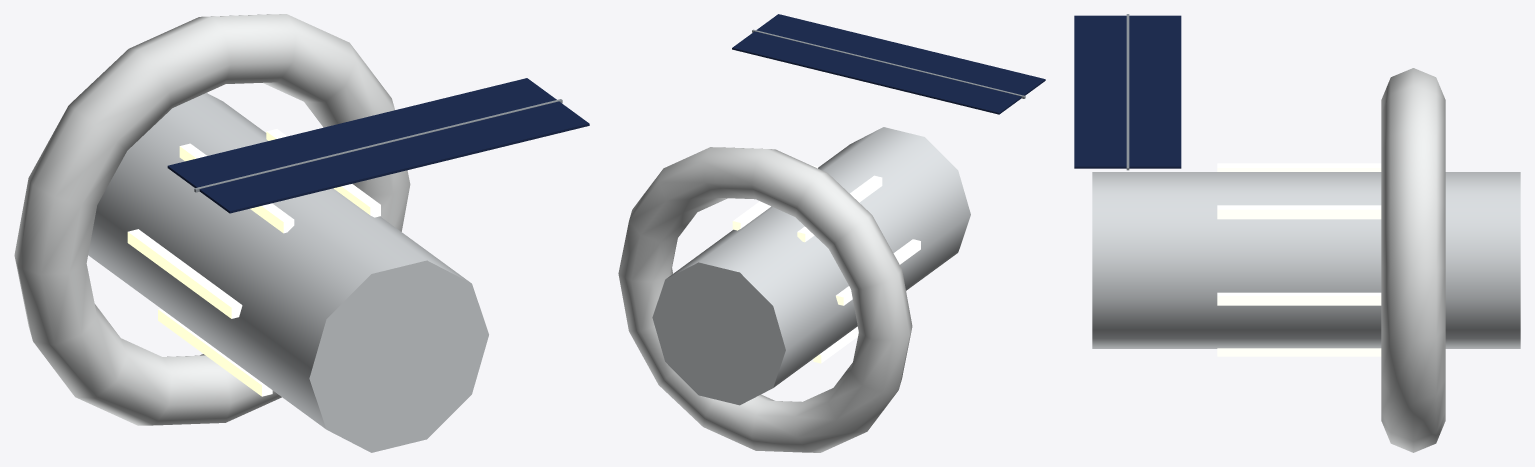
Rendered from space_orbital_habitat_t1.glb.
3 renders of one model, left to right at view 1: azimuth 30°, elevation 25°; view 2: azimuth 150°, elevation 25°; view 3: azimuth 270°, elevation 25°, orthographic. The views are drawn at different scales.
Visible parts, largest first — view 1: body, solar_0; view 2: body, solar_0; view 3: body, solar_0.
Part boxes in pixels (x1=…): body: x1=14, y1=14, x2=488, y2=452; solar_0: x1=167, y1=78, x2=589, y2=213; body: x1=618, y1=127, x2=970, y2=452; solar_0: x1=732, y1=14, x2=1045, y2=114; body: x1=1092, y1=68, x2=1520, y2=452; solar_0: x1=1074, y1=14, x2=1181, y2=170.
Size of what is drawn, in the model's own units: 10.8 by 10.8 by 12.5.
